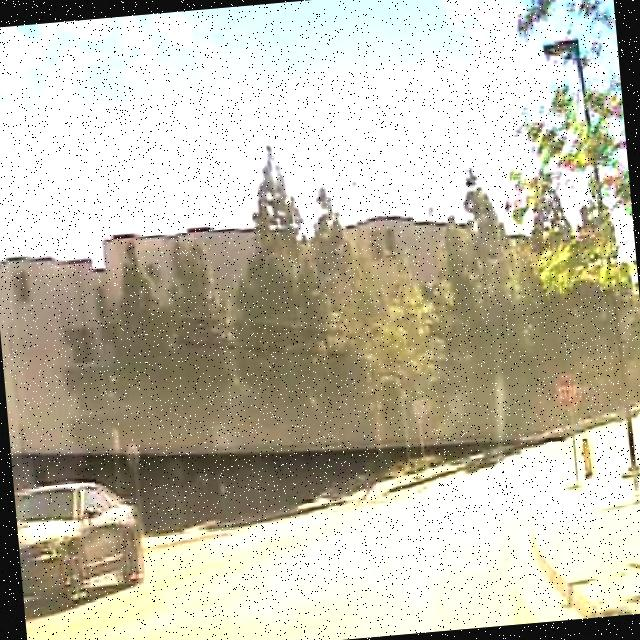Stop: (551, 372, 580, 410)
